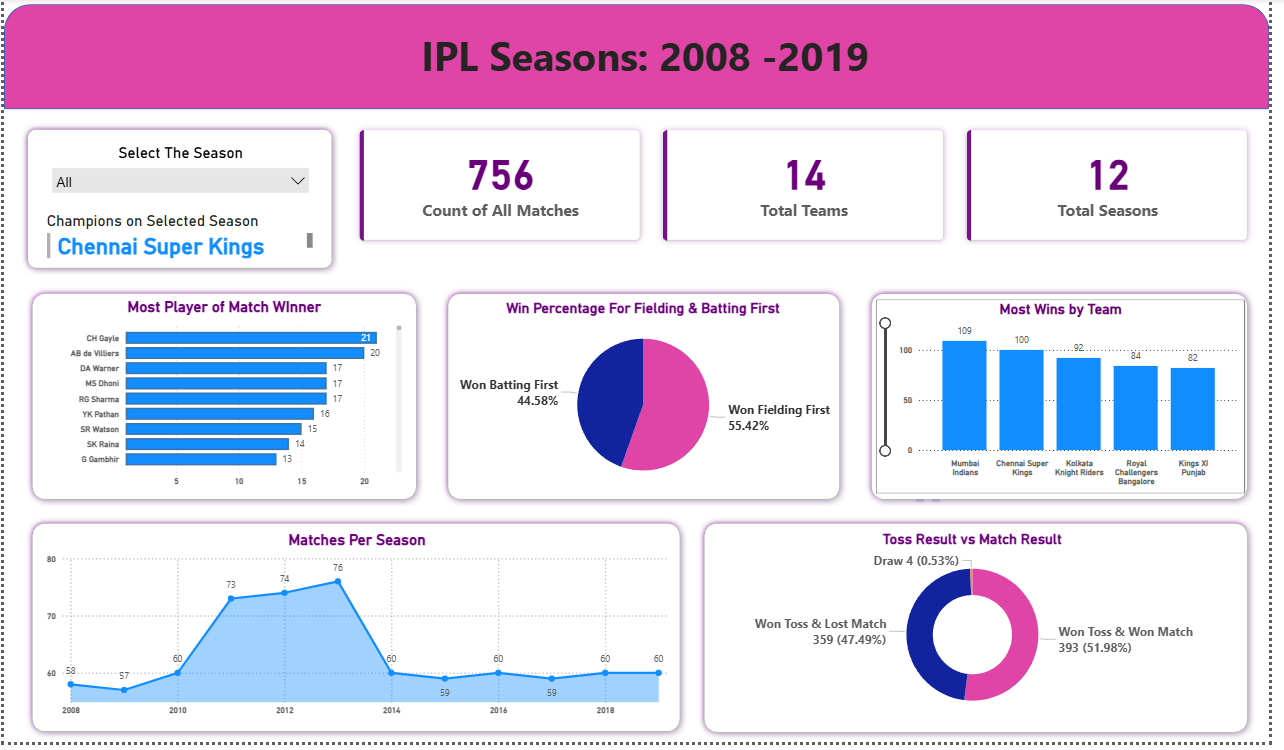

The dashboard page shown, as its layout file describes it:
{"tool":"powerbi","page":{"name":"Page 1","canvas":[1700,1000],"ordinal":0},"visuals":[{"type":"cardVisual","fields":{"Data":["CountNonNull(matches.All Matches)","matches.Total Teams","matches.Total Seasons"]},"box":[449.4,149.1,1251.5,205.8],"z":0},{"type":"shape","box":[0,8.6,1700.3,141.2],"z":1000},{"type":"shape","box":[587.9,388.5,543.8,294],"z":2000},{"type":"pieChart","title":"Win Percentage For Fielding & Batting First","fields":{"Category":["matches.Winning Type"],"Y":["Count(matches.id)"]},"box":[606.8,405.3,504,260.4],"z":3000},{"type":"textbox","box":[23.5,36.4,1676.7,83.4],"z":4000},{"type":"shape","box":[23.1,168,426.3,203.7],"z":5000},{"type":"slicer","title":"Select The Season","fields":{"Values":["matches.season"]},"box":[54.6,195.3,365.4,75.6],"z":6000},{"type":"multiRowCard","title":"Champions on Selected Season","fields":{"Values":["season_wise_champions.champion"]},"box":[52.5,287.7,367.5,67.2],"z":7000},{"type":"shape","box":[1157,388.5,522.9,294],"z":8000},{"type":"columnChart","title":"Most Wins by Team","fields":{"Y":["matches.Total Wins"],"Category":["matches.winner"]},"box":[1171.7,405.3,495.6,260.4],"z":9000},{"type":"shape","box":[29.4,388.5,533.4,294],"z":10000},{"type":"clusteredBarChart","title":"Most  Player of Match WInner","fields":{"Category":["matches.player_of_match"],"Y":["Count(matches.Total Matches)"]},"box":[52.5,403.2,487.2,260.4],"z":11000},{"type":"shape","box":[932.3,697.1,747.5,298.2],"z":12000},{"type":"donutChart","title":"Toss Result vs Match Result","fields":{"Category":["matches.Toss vs Match Result"],"Y":["CountNonNull(matches.All Matches)"]},"box":[948.1,715.6,704.4,257.2],"z":13000},{"type":"shape","box":[29.1,697.7,887.8,297.4],"z":14000},{"type":"lineChart","title":"Matches Per Season ","fields":{"Y":["matches.Matches Per Season"],"Category":["matches.season"]},"box":[52.5,716,844.1,256.2],"z":15000}]}

Visuals, with their boxes in screenshot pixels (x1, y1, x2, y2), scaled from the page's 1700x1000 canvas onto the 1284x750 screenshot:
cardVisual - CountNonNull(matches.All Matches) x matches.Total Teams: bbox(339, 112, 1283, 266)
shape: bbox(0, 6, 1283, 112)
shape: bbox(444, 291, 855, 512)
"Win Percentage For Fielding & Batting First" pieChart: bbox(458, 304, 839, 499)
textbox: bbox(18, 27, 1283, 90)
shape: bbox(17, 126, 339, 279)
"Select The Season" slicer: bbox(41, 146, 317, 203)
"Champions on Selected Season" multiRowCard: bbox(40, 216, 317, 266)
shape: bbox(874, 291, 1269, 512)
"Most Wins by Team" columnChart: bbox(885, 304, 1259, 499)
shape: bbox(22, 291, 425, 512)
"Most  Player of Match WInner" clusteredBarChart: bbox(40, 302, 408, 498)
shape: bbox(704, 523, 1269, 746)
"Toss Result vs Match Result" donutChart: bbox(716, 537, 1248, 730)
shape: bbox(22, 523, 693, 746)
"Matches Per Season " lineChart: bbox(40, 537, 677, 729)
